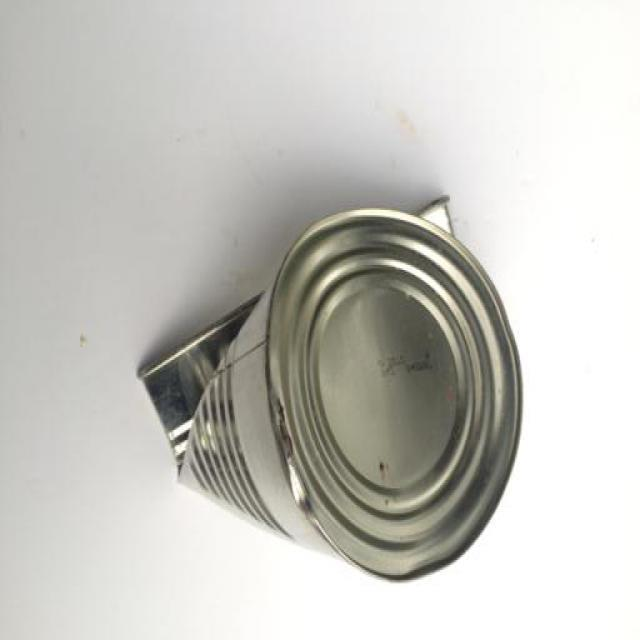metal: (133, 188, 530, 588)
